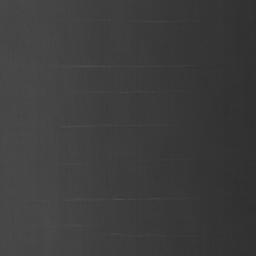Waist folding: (65, 195, 169, 203), (62, 63, 192, 69), (61, 123, 143, 129), (96, 89, 155, 95), (111, 231, 150, 238), (144, 19, 170, 24), (65, 223, 81, 228)
